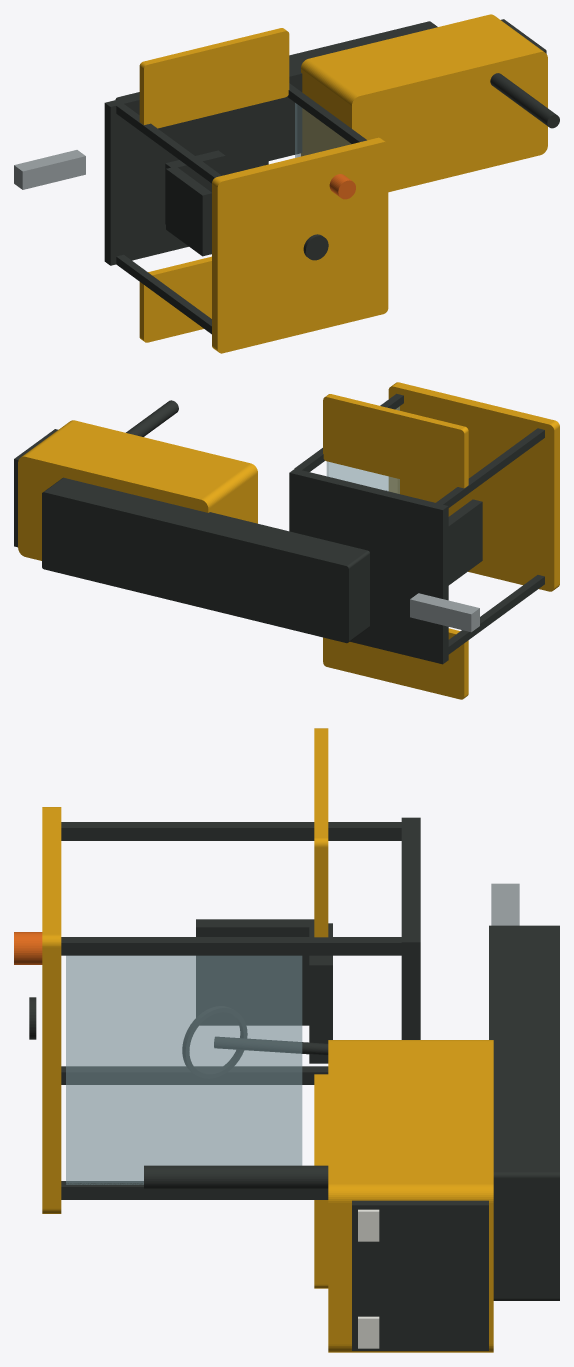
3 views of the same model, one above another, from view 1: azimuth 30°, elevation 25°; view 2: azimuth 150°, elevation 25°; view 3: azimuth 270°, elevation 25° (orthographic). The views are drawn at different scales.
Visible parts, largest first — view 1: roof_7, hood_1, fenders_5, cab_floor_6, rops_8, seat_10, chassis_0, drawbar_13, windscreen_9, exhaust_4, gnss_antenna_14, beacon_12; view 2: chassis_0, cab_floor_6, roof_7, hood_1, fenders_5, rops_8, seat_10, drawbar_13, windscreen_9, exhaust_4, grille_2; view 3: windscreen_9, hood_1, chassis_0, rops_8, grille_2, seat_10, roof_7, fenders_5, exhaust_4, cab_floor_6, steering_11, lamps_3 (+2 smaller).
Part boxes in pixels (x1,y1,x2,y2): roof_7: (212,137,388,353); hood_1: (301,14,547,192); fenders_5: (139,28,289,342); cab_floor_6: (104,94,268,265); rops_8: (116,83,366,334); seat_10: (165,150,225,256); chassis_0: (115,21,437,160); drawbar_13: (14,150,85,189); windscreen_9: (295,103,351,157); exhaust_4: (490,73,559,128); gnss_antenna_14: (303,234,328,260); beacon_12: (329,174,355,199); chassis_0: (42,477,369,643); cab_floor_6: (289,468,448,664); roof_7: (388,382,559,591); hood_1: (18,420,257,560); fenders_5: (323,394,468,699); rops_8: (294,393,544,654); seat_10: (448,499,482,585); drawbar_13: (410,593,479,632); windscreen_9: (326,406,399,493); exhaust_4: (126,400,178,436); grille_2: (14,429,57,547); windscreen_9: (66,955,302,1184); hood_1: (328,1040,493,1352); chassis_0: (489,925,559,1300); rops_8: (61,822,401,1199); grille_2: (352,1200,488,1350); seat_10: (196,919,332,1063); roof_7: (42,807,61,1213); fenders_5: (314,728,328,1288); exhaust_4: (144,1165,328,1189); cab_floor_6: (401,817,420,1039); steering_11: (182,1006,328,1078); lamps_3: (358,1209,379,1348).
Bounding box in the file's own units: 3.82 × 2.1 × 2.31.
